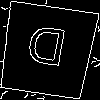D: (22, 25, 69, 76)
